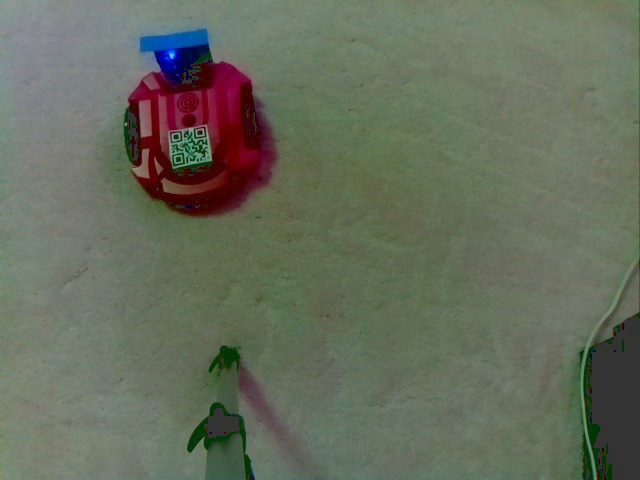board: (136, 29, 215, 86)
chassis: (113, 30, 267, 210)
